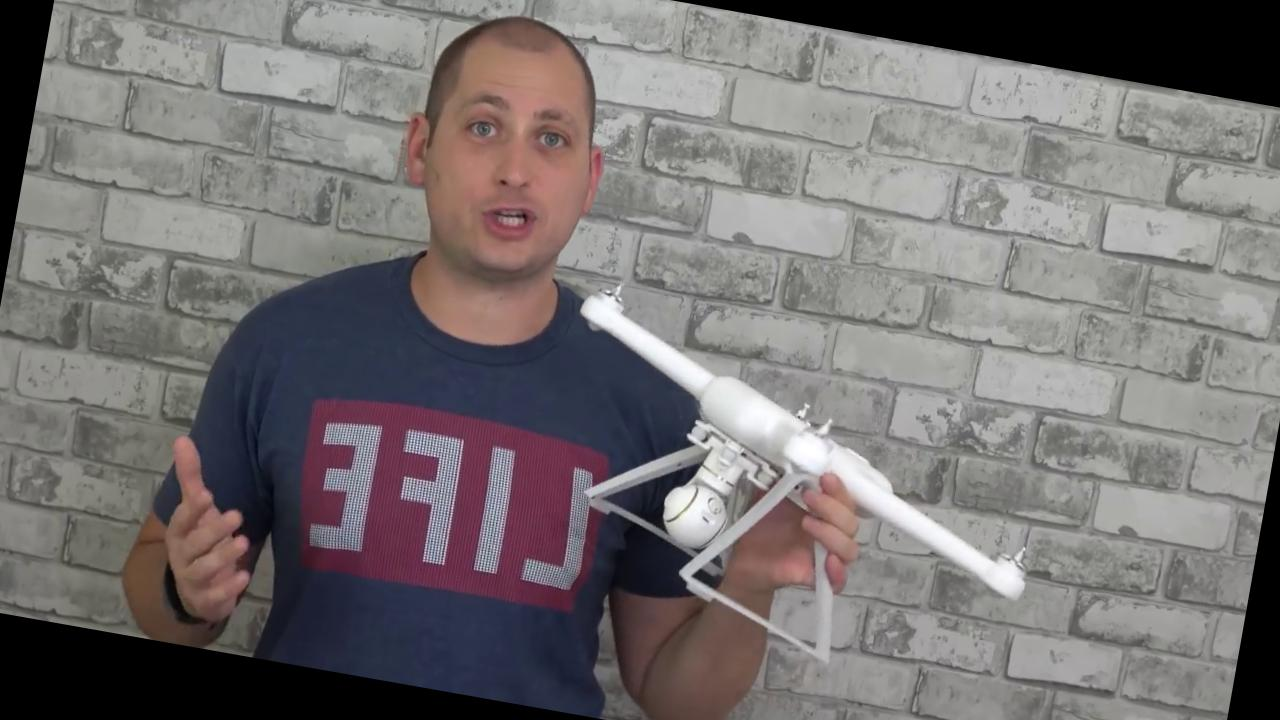drone: (528, 264, 1076, 636)
